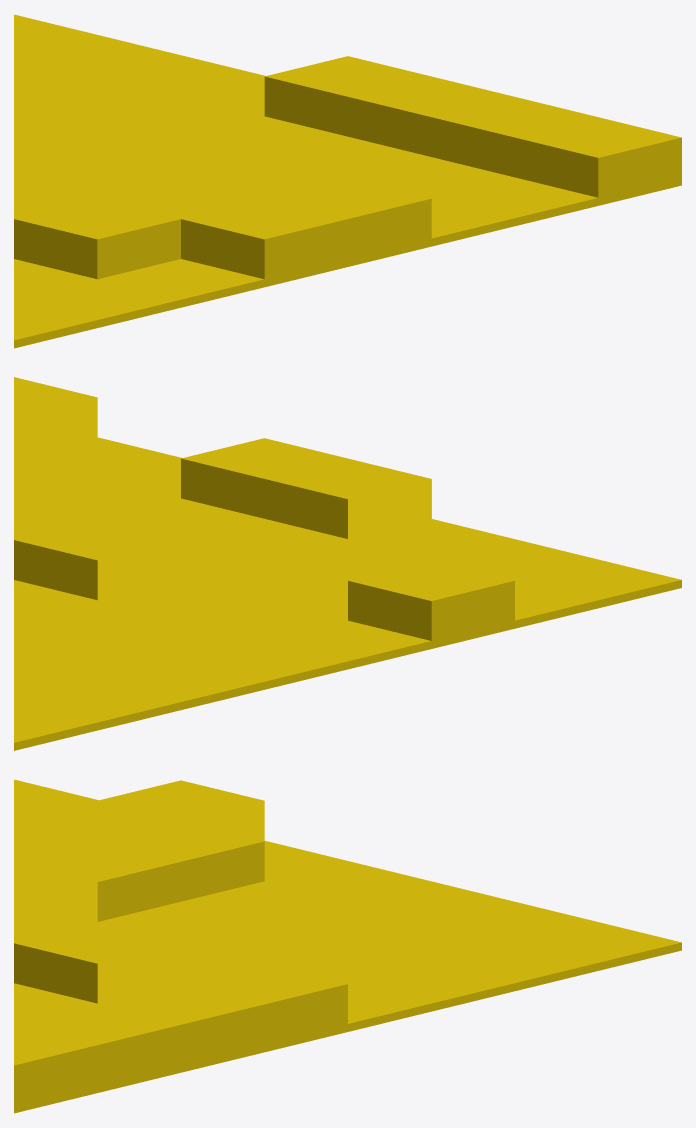
The model's file is GrainPort.fbx.
3 views of the same model, one above another, from view 1: azimuth 30°, elevation 25°; view 2: azimuth 150°, elevation 25°; view 3: azimuth 270°, elevation 25° (orthographic).
Parts seen in each view (by area): view 1: Cylinder; view 2: Cylinder; view 3: Cylinder.
Part boxes in pixels (left/top/right/bottom): Cylinder: left=14, top=14, right=681, bottom=348; Cylinder: left=14, top=377, right=681, bottom=750; Cylinder: left=14, top=779, right=681, bottom=1113.
Bounding box in the file's own units: 0.866 × 0.0594 × 0.75.
